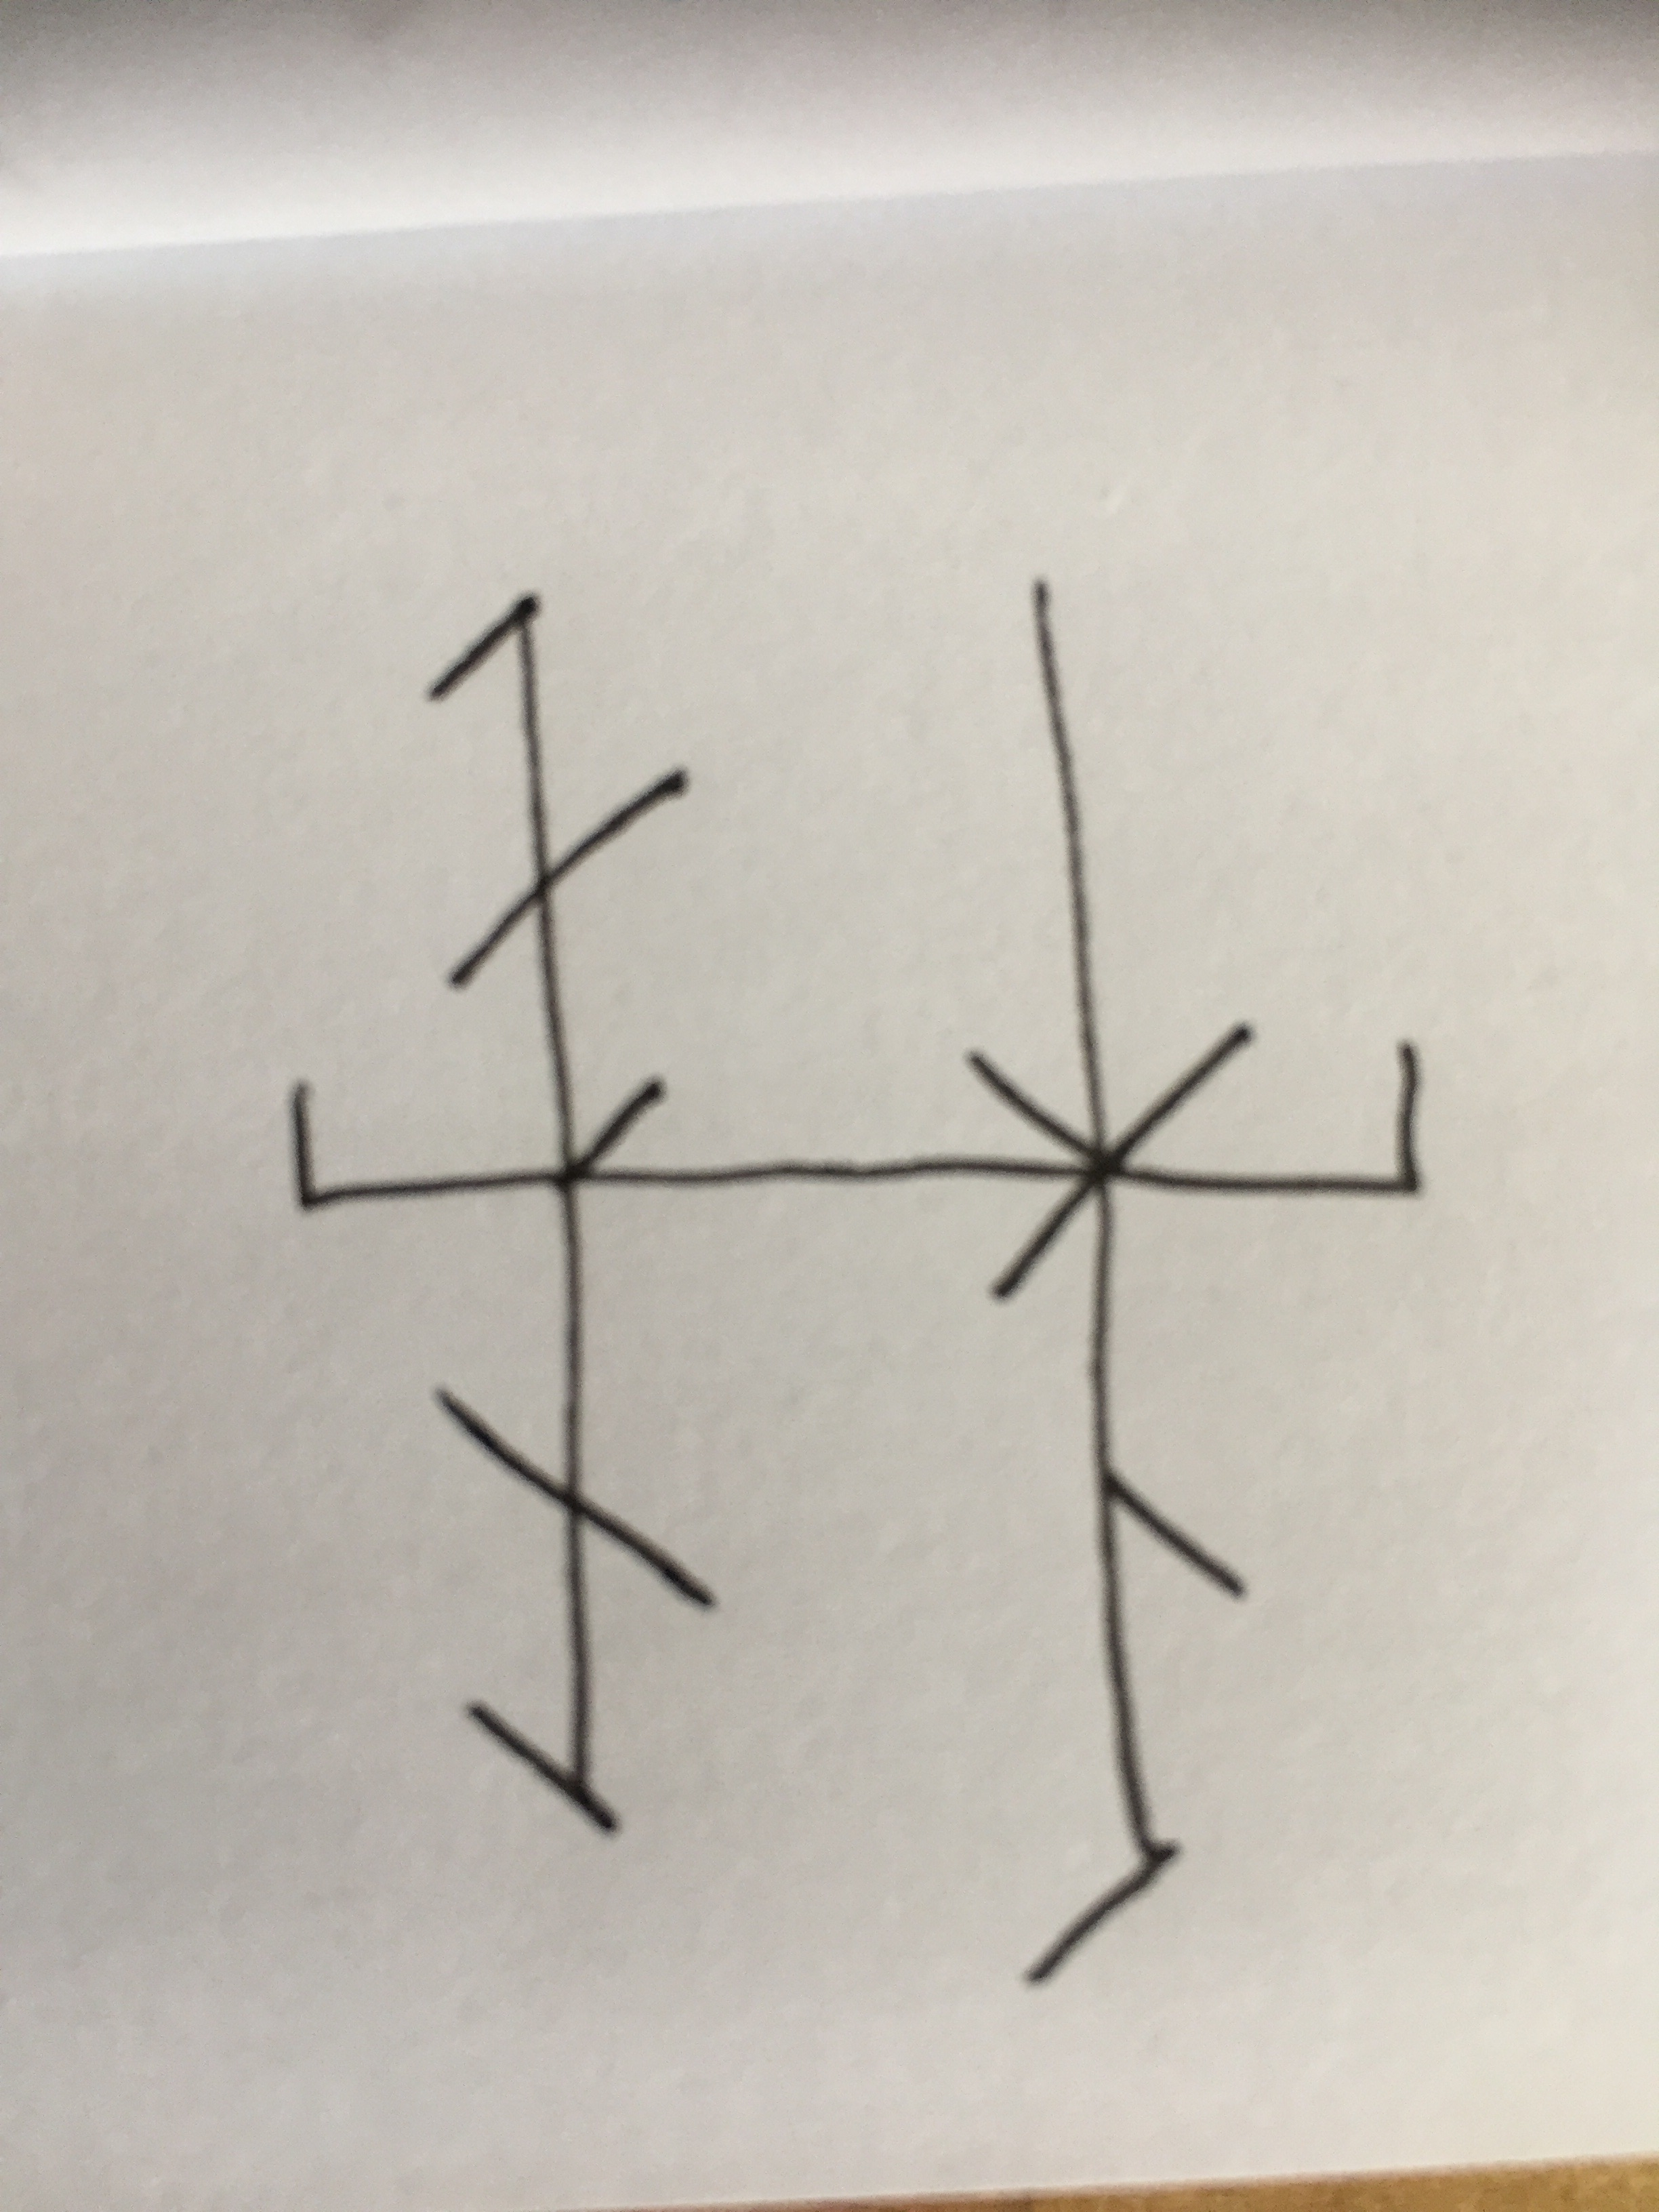Bar: (965, 575, 1255, 1987), (423, 590, 716, 1839)
Barcode: (288, 575, 1425, 1989)
End: (1248, 1043, 1422, 1200)
Start: (288, 1080, 549, 1212)
